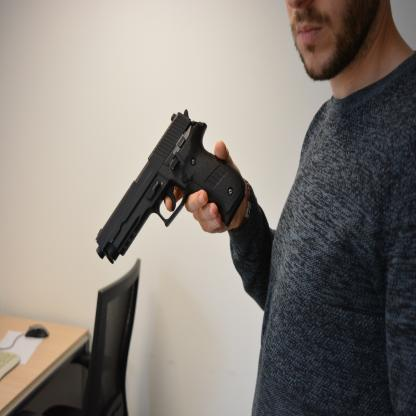pistol: (94, 108, 247, 266)
